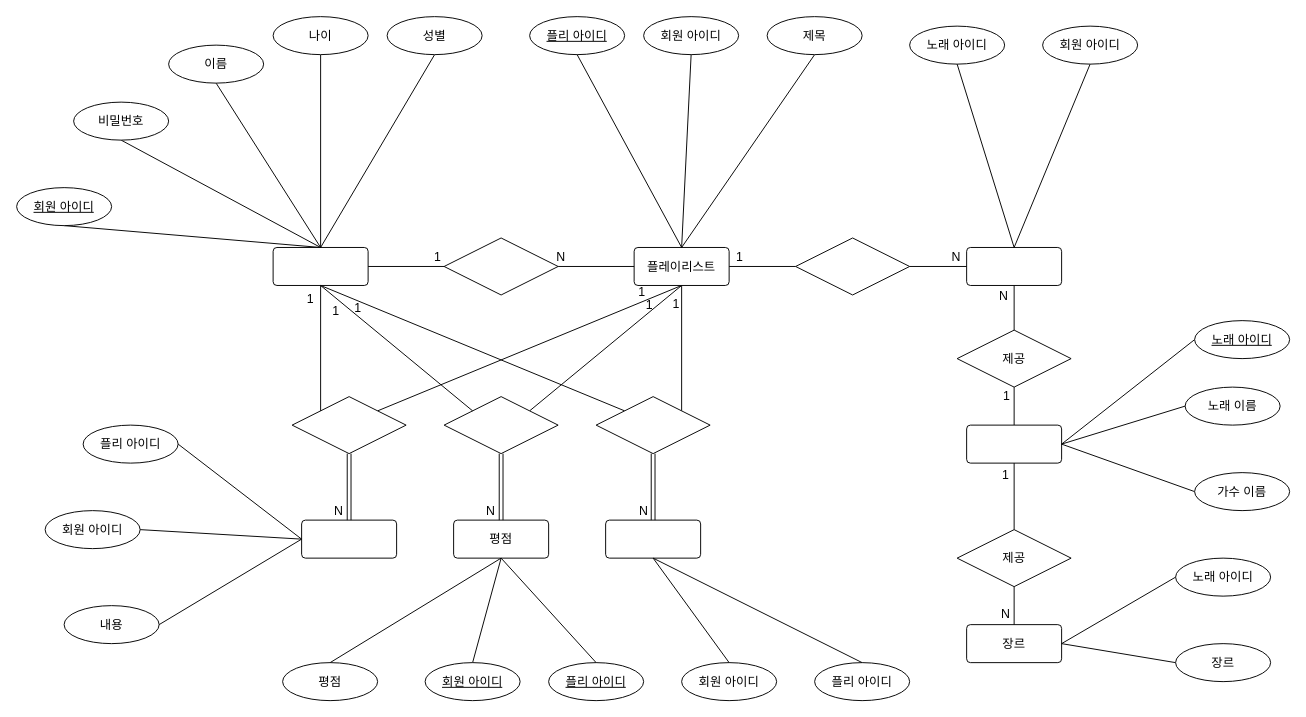
Some shapes in this 1306 by 717 pixel diagram are drawn without their labels. The centre of each missing label's shape, as x and y in pixels:
"노래" belongs at point (1014, 443).
"노래목록" belongs at point (1014, 266).
"댓글" belongs at point (349, 538).
"소속" belongs at point (852, 266).
"소유" belongs at point (500, 266).
"작성" belongs at point (348, 425).
"즐겨찾기" belongs at point (653, 538).
"추가" belongs at point (652, 425).
"평가" belongs at point (500, 425).
"회원" belongs at point (320, 266).
